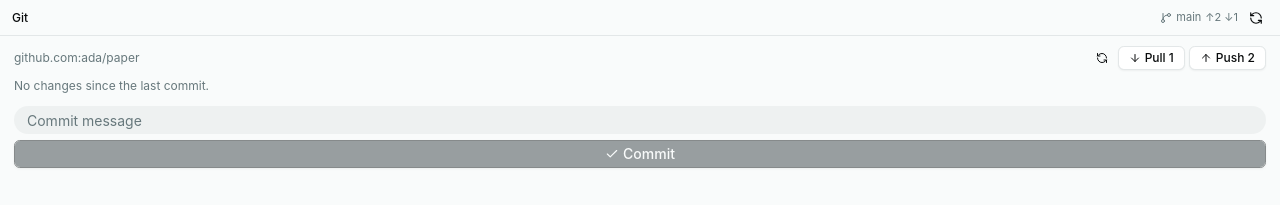
Scenario: GitPanel remotes › pushes and pulls with the counts on the buttons
Expected: the button "Pull 1" is shown, x1=1118 y1=46 x2=1185 y2=70
Step 1. Click the button "Push 2" → (1227,58), box x1=1189 y1=46 x2=1266 y2=70
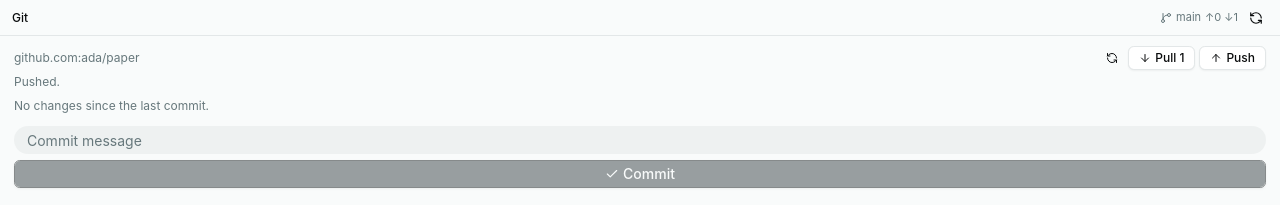
Expected: the button "Push" is shown, x1=1199 y1=46 x2=1266 y2=70
Result: the text "Pushed." is shown at x1=14 y1=74 x2=60 y2=89
Step 2. Click the button "Pull 1" → (1162,58), box x1=1128 y1=46 x2=1195 y2=70
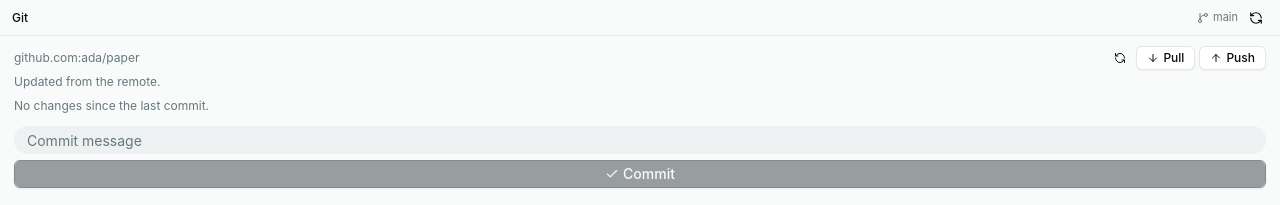
Result: the text "Updated from the remote." is shown at x1=14 y1=74 x2=160 y2=89
